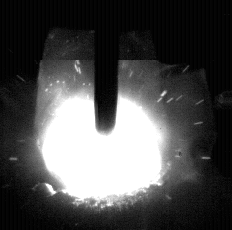arame: (95, 0, 119, 135)
poca: (34, 0, 168, 230)
